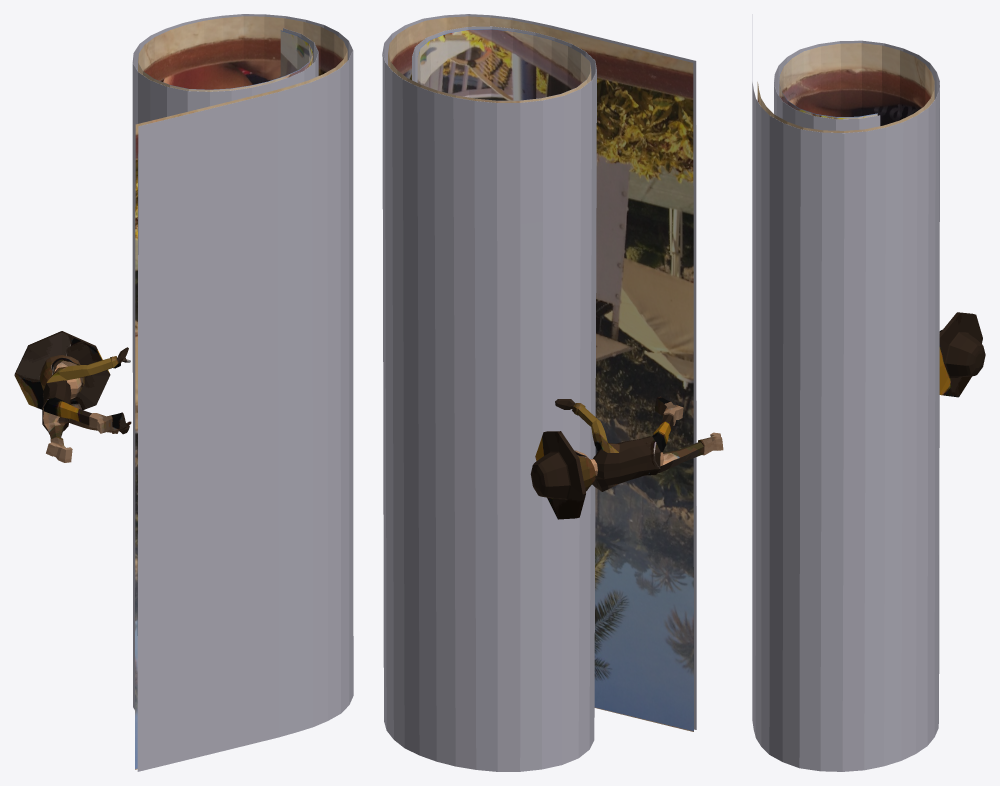
File: start_file2_000023.obj
3 renders of one model, left to right at view 1: azimuth 30°, elevation 25°; view 2: azimuth 150°, elevation 25°; view 3: azimuth 270°, elevation 25°, orthographic. The views are drawn at different scales.
Parts seen in each view (by area): view 1: Cube_Cube.001, Character_Cube; view 2: Cube_Cube.001, Character_Cube; view 3: Cube_Cube.001, Character_Cube.
Part boxes in pixels (x1,y1,x2,y2): Cube_Cube.001: [132, 14, 353, 771]; Character_Cube: [14, 331, 131, 462]; Cube_Cube.001: [382, 14, 696, 771]; Character_Cube: [530, 396, 723, 519]; Cube_Cube.001: [752, 14, 939, 771]; Character_Cube: [939, 312, 985, 397].
Size of the model in its own units: 0.7573 by 1.52 by 0.5044.
Materials: 2 (2 with a texture image).
